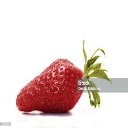strawberry: (12, 56, 101, 113)
